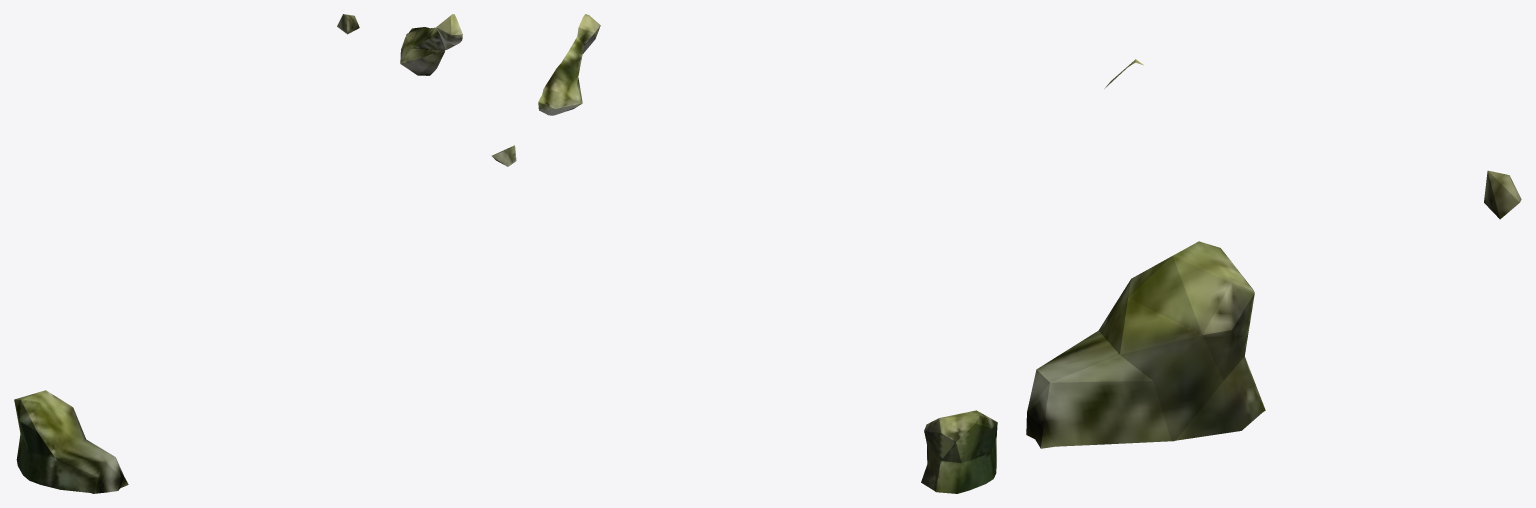
The picture shows the model from 3 angles, left to right: view 1: azimuth 30°, elevation 25°; view 2: azimuth 150°, elevation 25°; view 3: azimuth 270°, elevation 25°; orthographic projection. The views are drawn at different scales.
Size of the model in its own units: 0.4849 by 0.4011 by 0.2495.
1 material, 1 textured.
